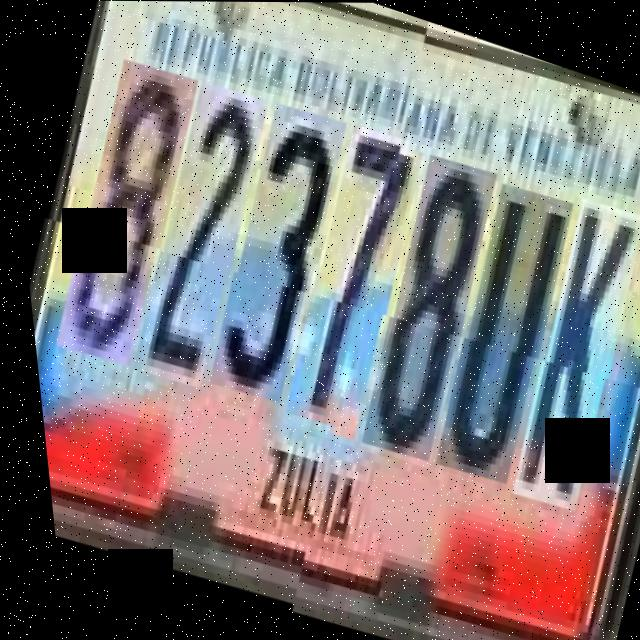2: (98, 86, 291, 401)
3: (174, 108, 366, 415)
7: (249, 131, 445, 447)
8: (20, 63, 221, 381), (326, 155, 517, 468)
K: (474, 199, 640, 520)
U: (400, 183, 592, 491)
